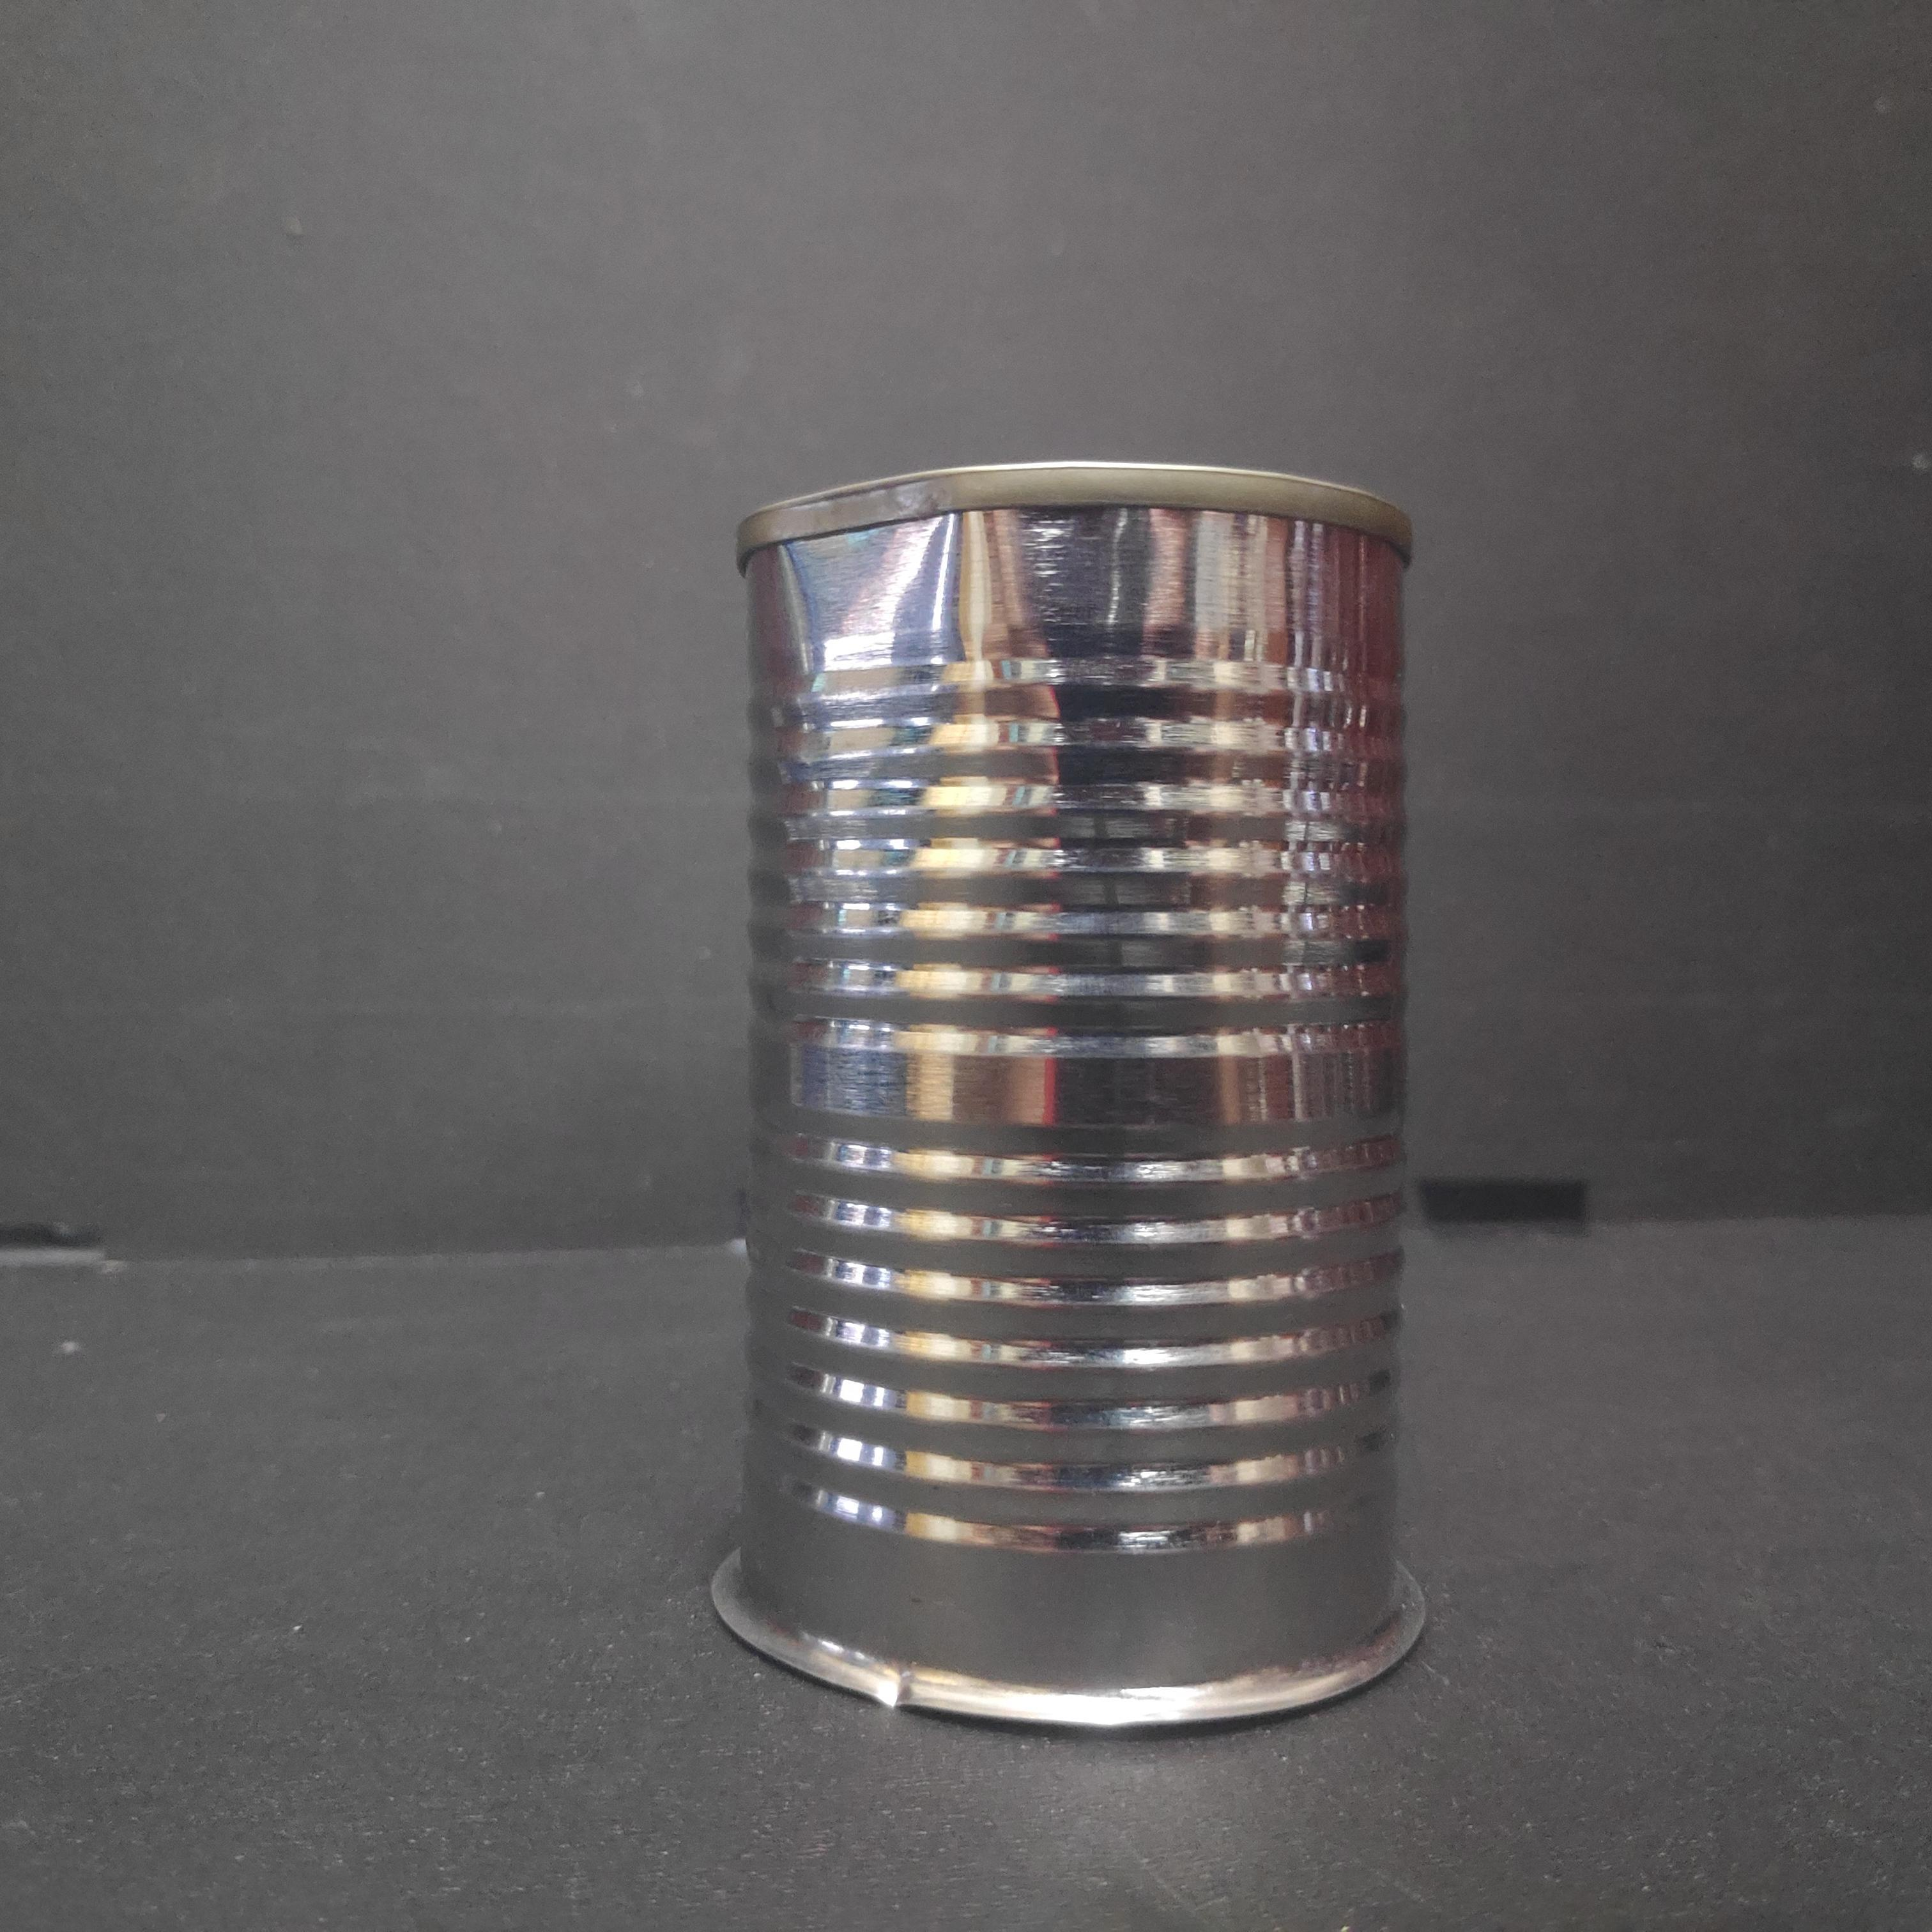Dented: (728, 428, 1437, 1722)
